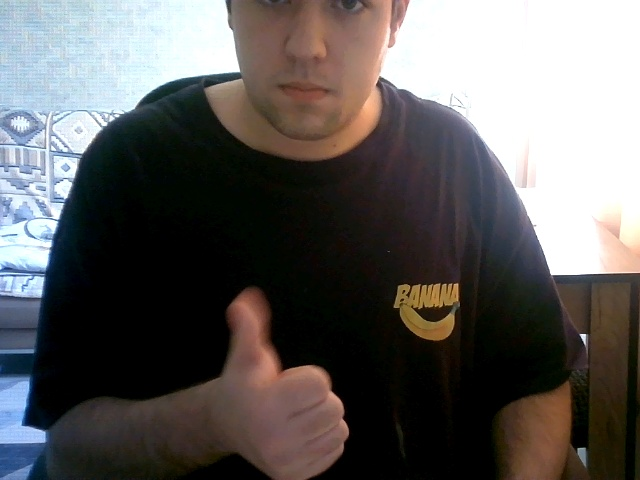good: (194, 275, 366, 480)
